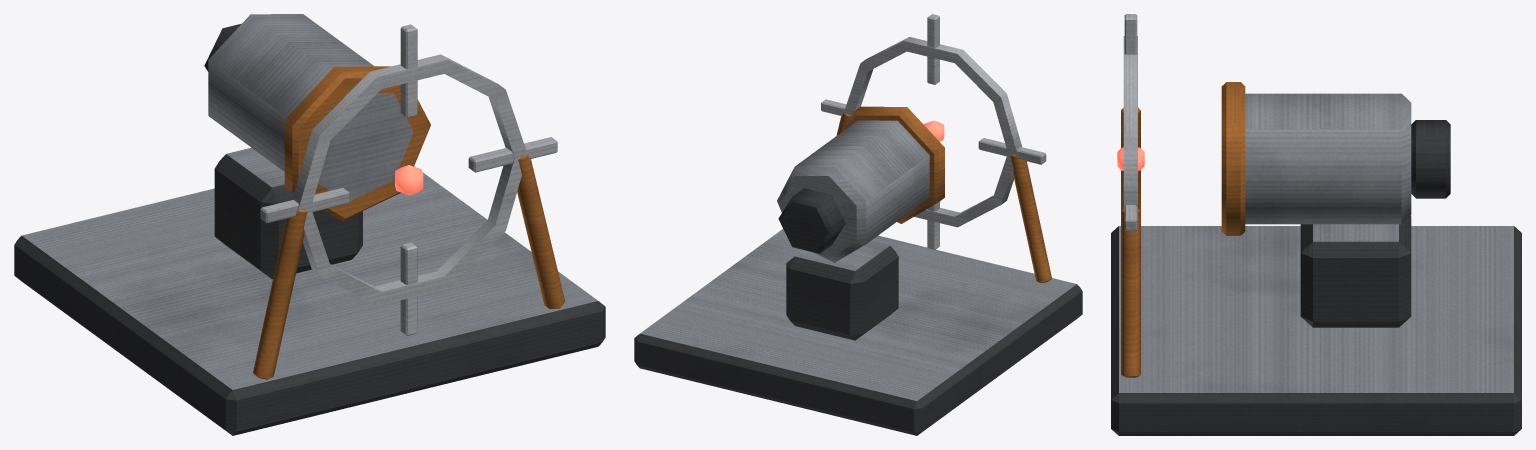
Rendered from R4X_WeakPointScanner_LOD1.glb.
3 renders of one model, left to right at view 1: azimuth 30°, elevation 25°; view 2: azimuth 150°, elevation 25°; view 3: azimuth 270°, elevation 25°, orthographic. The views are drawn at different scales.
Visible parts, largest first — view 1: R4X_WeakPointScanner_LOD1; view 2: R4X_WeakPointScanner_LOD1; view 3: R4X_WeakPointScanner_LOD1.
Boxes of the visible parts, x1,y1,x2,y2 form: R4X_WeakPointScanner_LOD1: (14, 14, 605, 435); R4X_WeakPointScanner_LOD1: (634, 14, 1082, 435); R4X_WeakPointScanner_LOD1: (1111, 14, 1521, 435).
Bounding box in the file's own units: 0.52 × 0.47 × 0.52.
5 materials, 4 textured.
